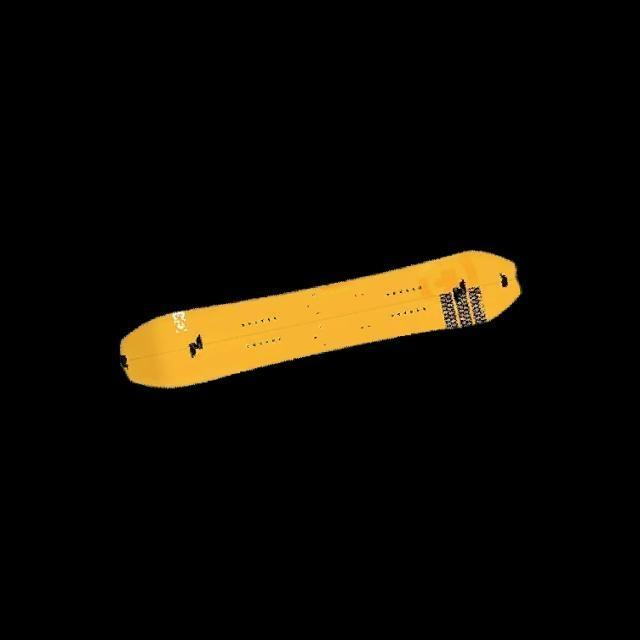Snowboard: (118, 248, 521, 389)
